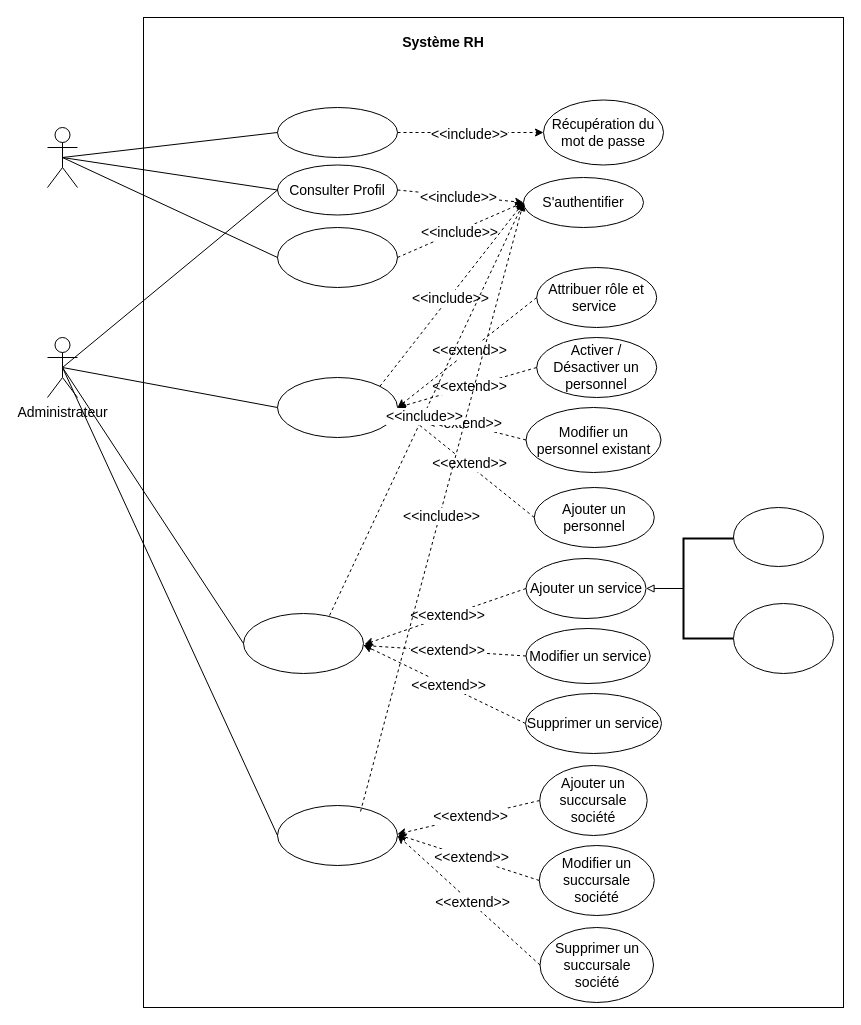
Image size: 861x1025. Some labels were removed from this diagram. Each missing label, with the centre of its shape:
"Ajourter un service par nom" belongs at (778,536).
"Ajouter un service par nom et chefs de service" belongs at (783,638).
"Consulter les services" belongs at (303,643).
"Consulter les succursales sociétés" belongs at (337,835).
"Lister les personnels" belongs at (337,407).
"Modification du mot de passe" belongs at (337,257).
"Personnel" belongs at (62,157).
"S'inscrire" belongs at (337,132).
